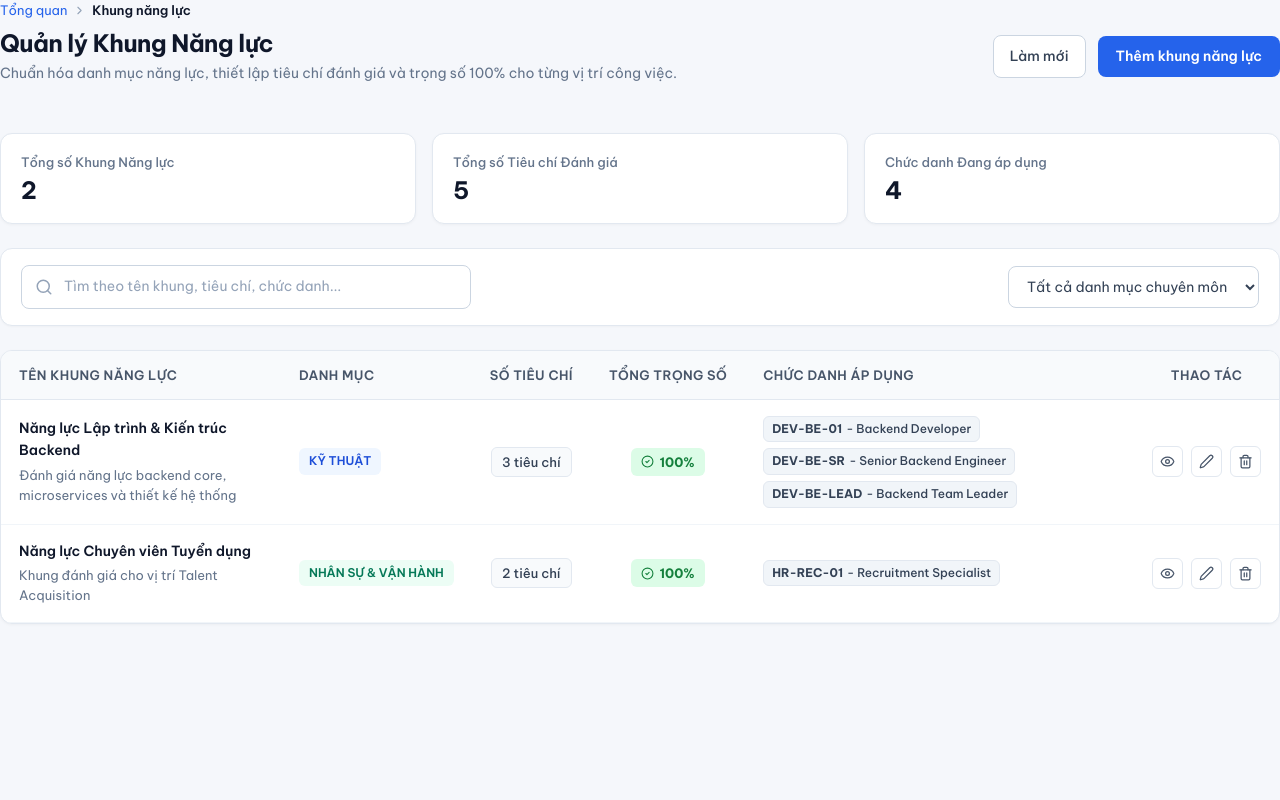
Test case: CompetencyFrameworkPage (S2-06 Quản lý khung năng lực - SCRUM-54) › TC02/TC03/TC07 - Real-time weight calculation & validation in Create/Edit modal
# Open create modal
Click the button "Thêm khung năng lực".
click(1189, 57)  # box [1098,36,1279,77]
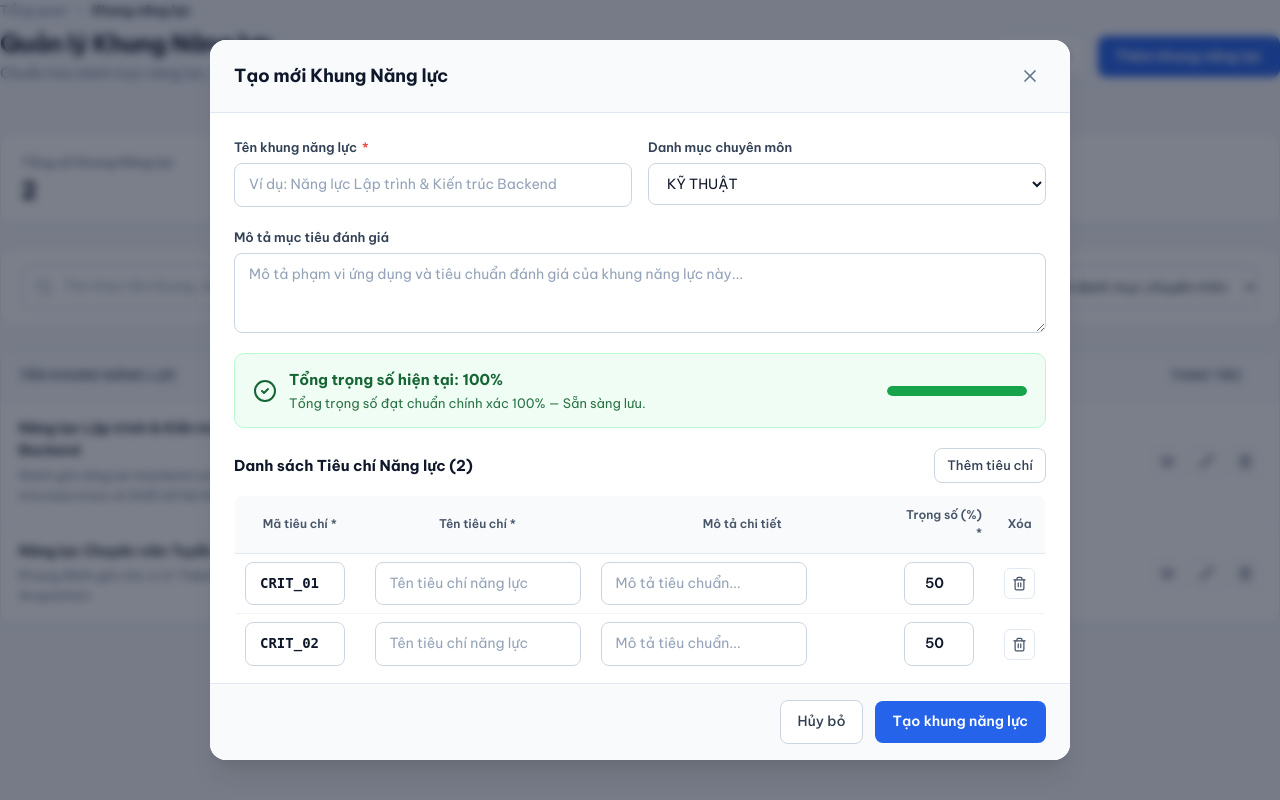
Result: the heading "Tạo mới Khung Năng lực" is shown at [234,64,448,88]
Result: the field labelled "Tên khung năng lực *" is shown at [234,163,632,207]
Result: the text "Tổng trọng số hiện tại: 100%" is shown at [289,370,503,389]
Replace the text in the 1st number field with placeholder "%" with "49" at (939, 584), box [904,562,974,605]
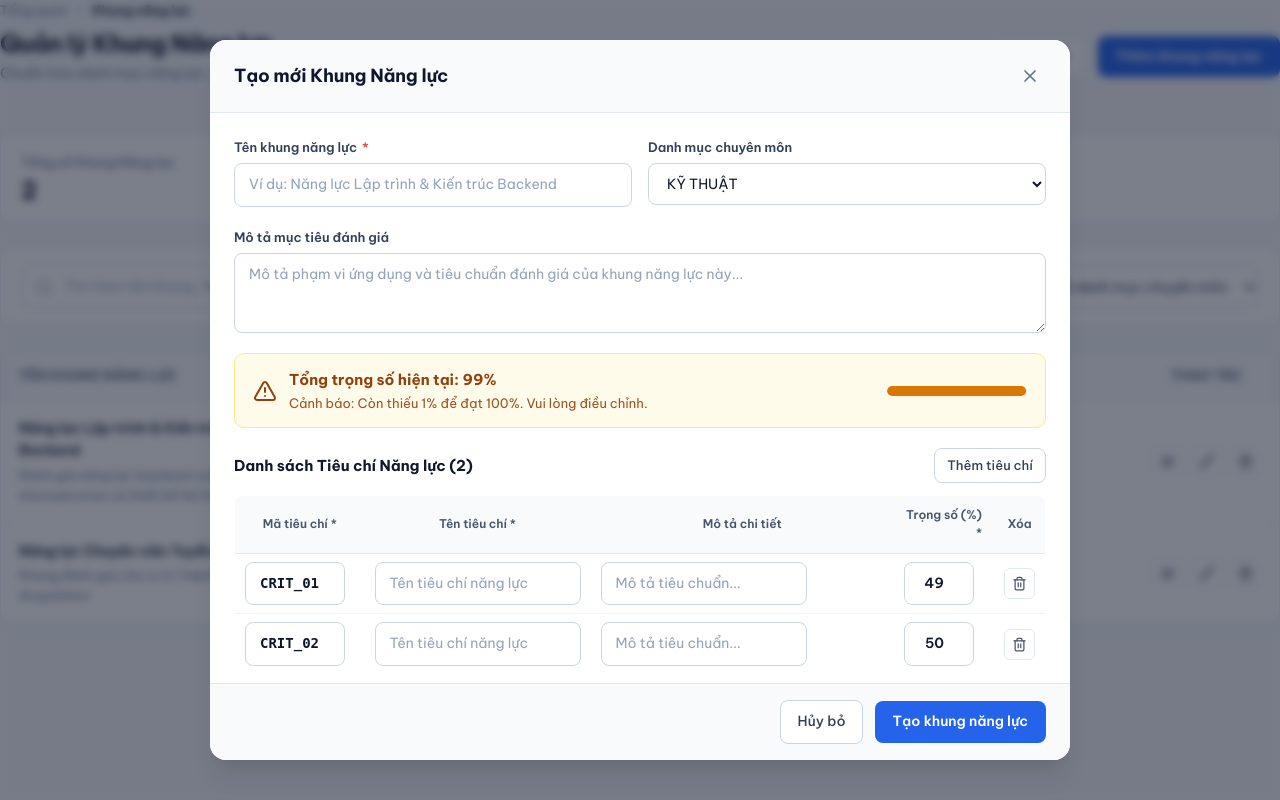
Result: the button "Tạo khung năng lực" is disabled at [875,701,1046,743]
Result: the text "Tổng trọng số hiện tại: 99%" is shown at [289,370,497,389]
Result: the text "Cảnh báo: Còn thiếu 1% để đạt 100%. Vui lòng điều chỉnh." is shown at [289,393,648,413]
Replace the text in the 1st number field with placeholder "%" with "51" at (939, 584), box [904,562,974,605]
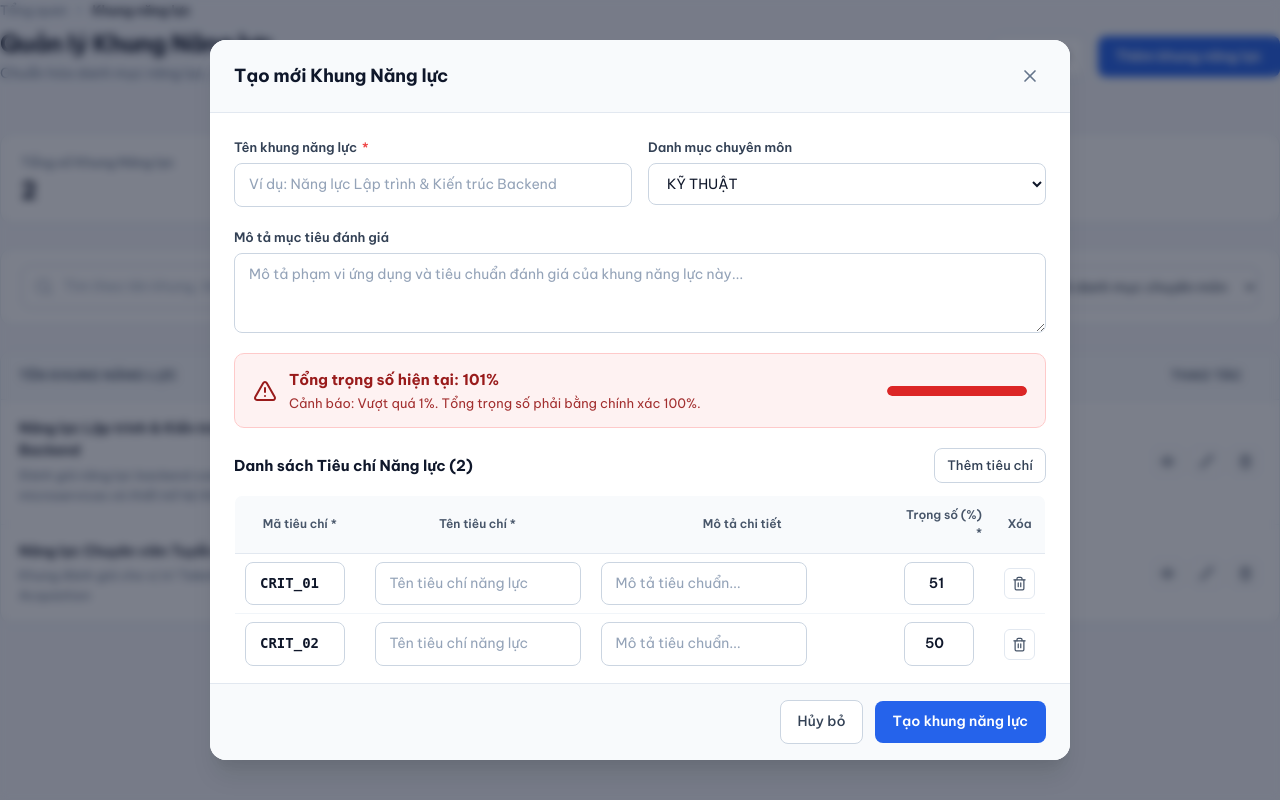
Result: the button "Tạo khung năng lực" is disabled at [875,701,1046,743]
Result: the text "Tổng trọng số hiện tại: 101%" is shown at [289,370,499,389]
Result: the text "Vượt quá 1%" is shown at [289,395,701,411]
Replace the text in the 1st number field with placeholder "%" with "50" at (939, 584), box [904,562,974,605]
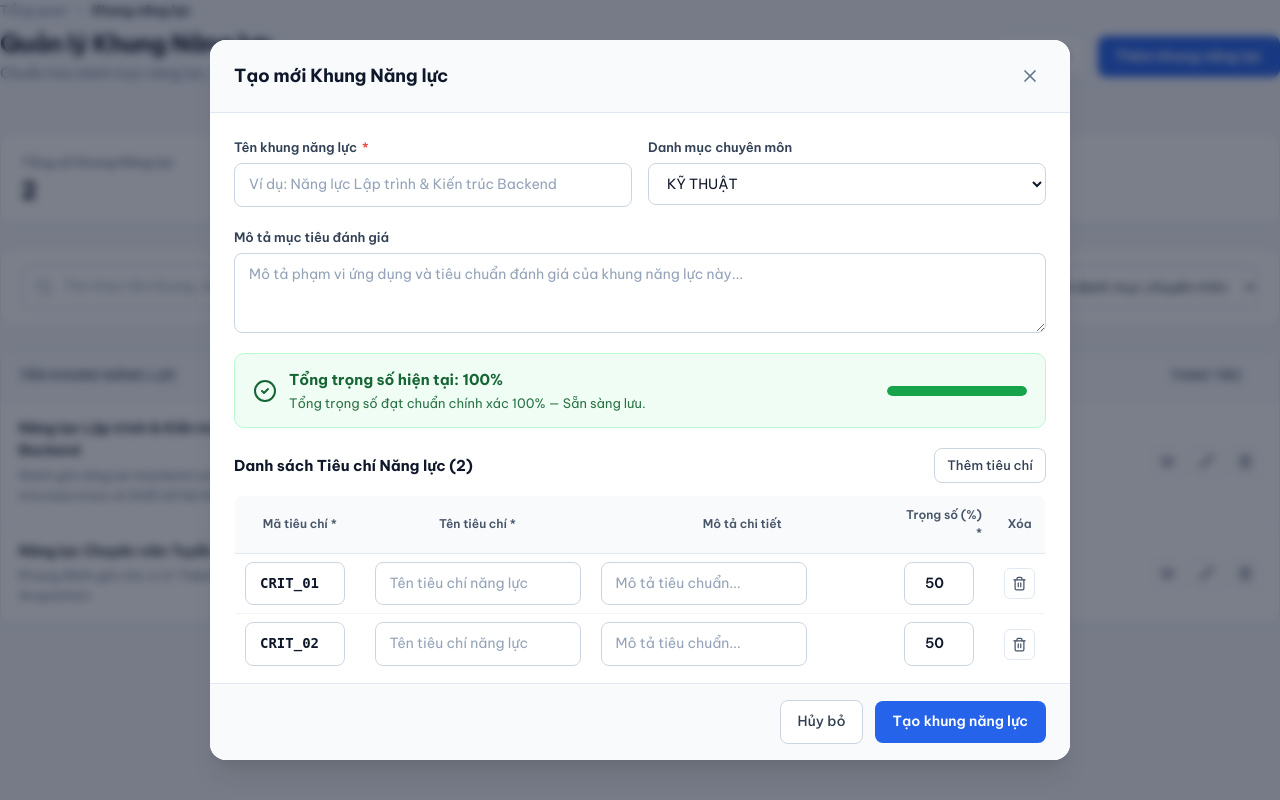
Result: the text "Tổng trọng số hiện tại: 100%" is shown at [289,370,503,389]
